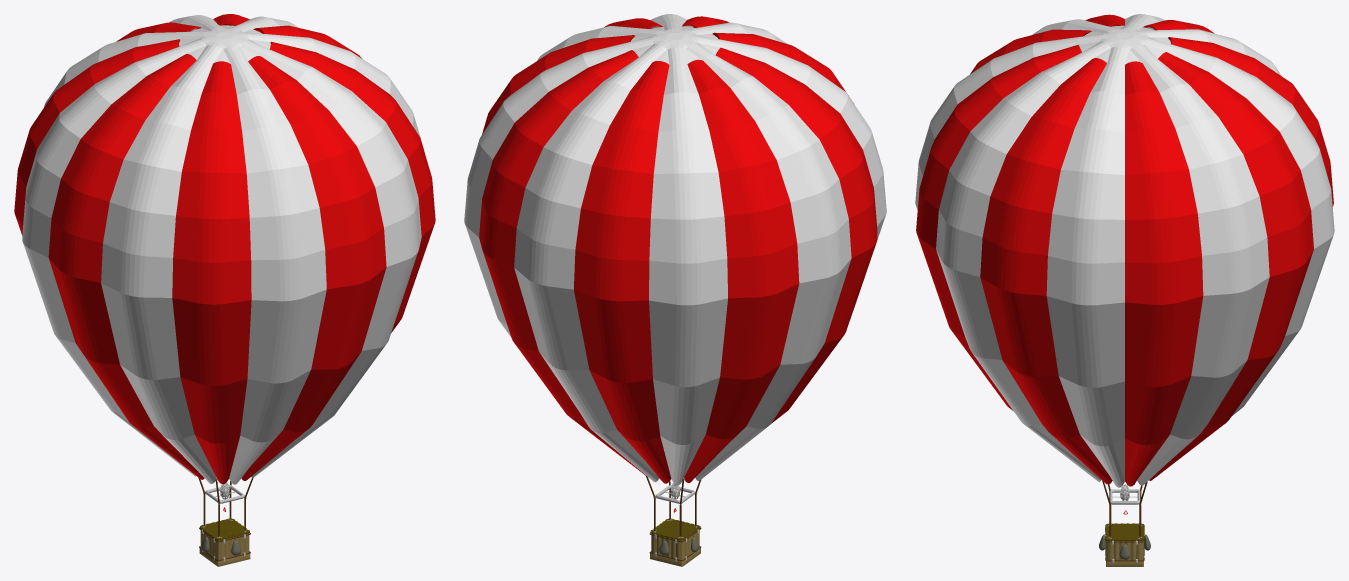
File: aircraft.fbx
The picture shows the model from 3 angles, left to right: view 1: azimuth 30°, elevation 25°; view 2: azimuth 150°, elevation 25°; view 3: azimuth 270°, elevation 25°; orthographic projection.
Visible parts, largest first — view 1: Torus.014; view 2: Torus.014; view 3: Torus.014.
Part boxes in pixels (<box>): Torus.014: <box>14,14,435,566</box>; Torus.014: <box>464,14,886,566</box>; Torus.014: <box>915,14,1334,566</box>.
Size of the model in its own units: 1775 by 2442 by 1775.
